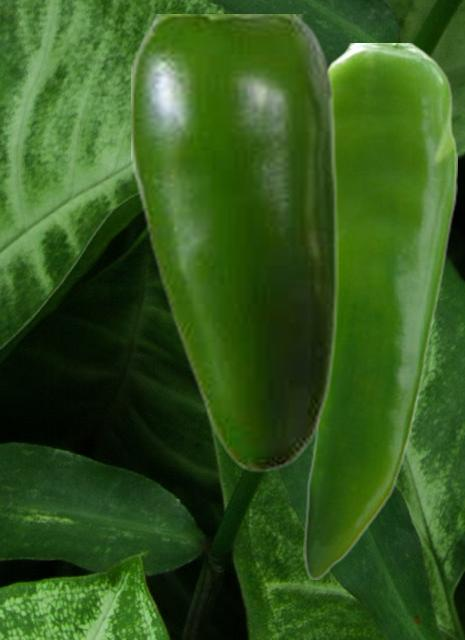green_chili: (131, 14, 337, 472), (303, 43, 456, 578)
